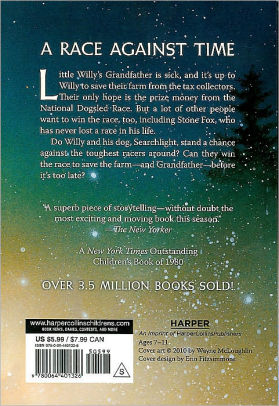barcode: (29, 347, 114, 381)
